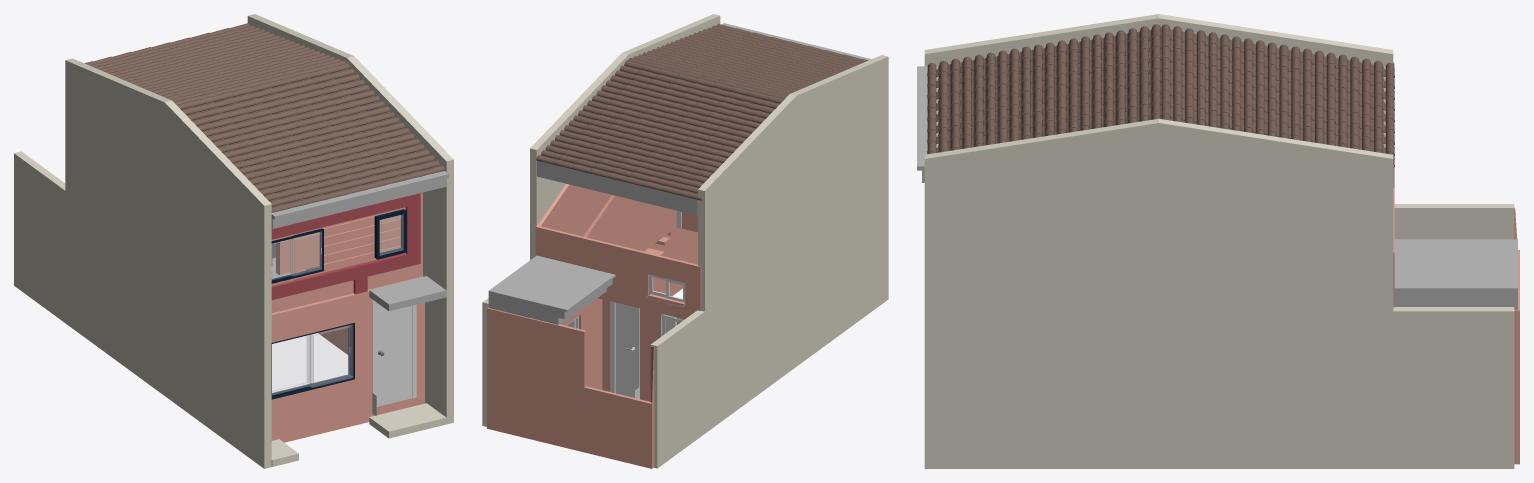
The model's file is modelHouse.glb.
The picture shows the model from 3 angles, left to right: view 1: azimuth 30°, elevation 25°; view 2: azimuth 150°, elevation 25°; view 3: azimuth 270°, elevation 25°; orthographic projection. The views are drawn at different scales.
Parts seen in each view (by area): view 1: Cube.003, Roof.002, Wall.001, wall.003, Cube.007, Door.010, roof, Window.L.009, Window.R.007, Cube.001, Cube.006, Window.R.011 (+7 smaller); view 2: Cube.003, Roof.002, Wall.001, wall.003, Roof.001, roof, Door.008, DoorFrame.008; view 3: Cube.003, Roof.002, Roof.001, roof, Wall.001.
Boxes of the visible parts, x1,y1,x2,y2 form: Cube.003: (14, 14, 453, 468); Roof.002: (85, 23, 444, 212); Wall.001: (271, 266, 424, 442); wall.003: (271, 192, 422, 312); Cube.007: (271, 193, 420, 299); Door.010: (376, 303, 412, 406); roof: (271, 171, 448, 228); Window.L.009: (309, 324, 353, 387); Window.R.007: (272, 335, 310, 394); Cube.001: (369, 403, 446, 438); Cube.006: (369, 276, 446, 311); Window.R.011: (291, 231, 321, 276); Cube.003: (482, 14, 888, 468); Roof.002: (536, 23, 867, 200); Wall.001: (487, 228, 697, 468); wall.003: (535, 184, 701, 319); Roof.001: (488, 255, 615, 324); roof: (537, 23, 871, 215); Door.008: (615, 302, 634, 397); DoorFrame.008: (610, 301, 639, 399); Cube.003: (924, 14, 1514, 468); Roof.002: (927, 24, 1394, 167); Roof.001: (1394, 239, 1517, 309); roof: (917, 66, 1394, 187); Wall.001: (1514, 207, 1519, 464).
Size of the model in its own units: 3.86 by 5.71 by 9.02.
